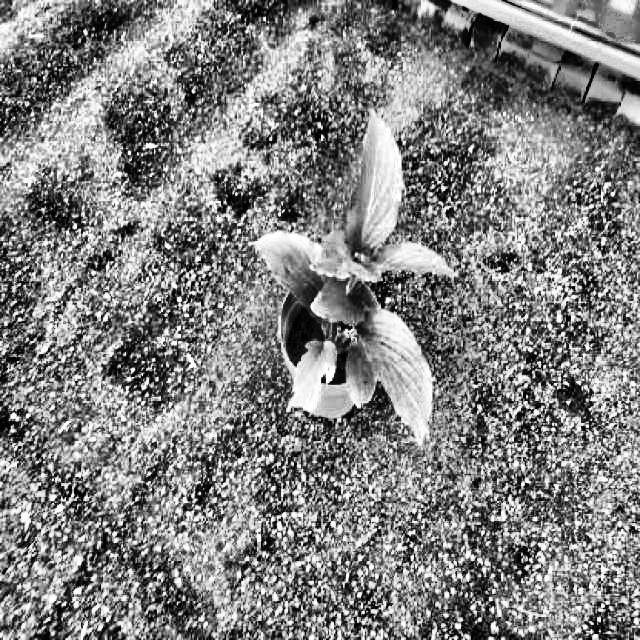plants: (250, 110, 461, 444)
